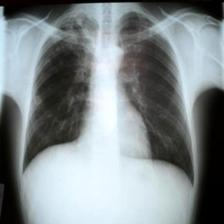tuberculosis: (16, 7, 200, 192)
